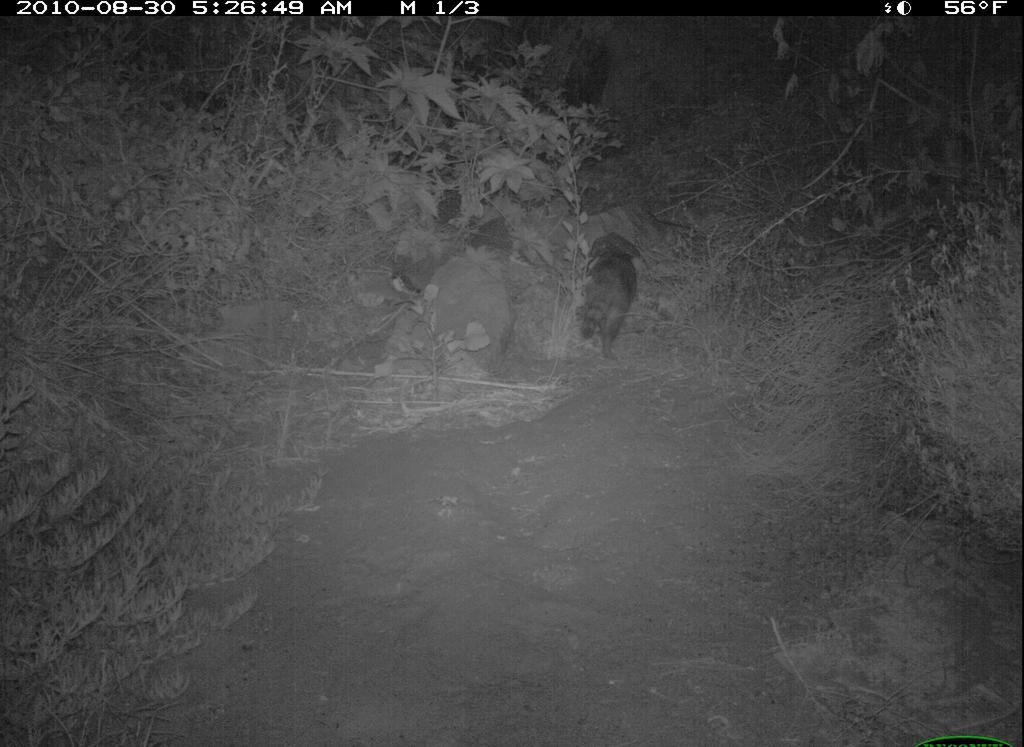raccoon: (571, 242, 655, 377)
